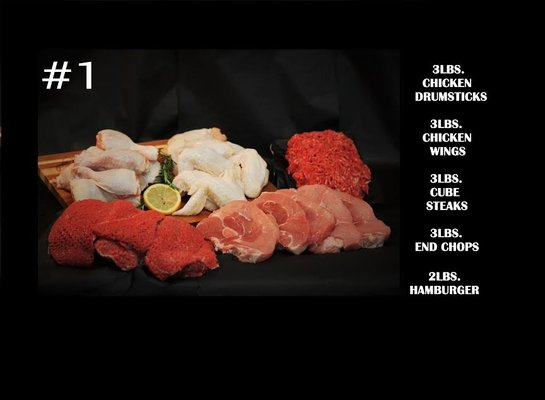curry: (163, 127, 270, 215)
